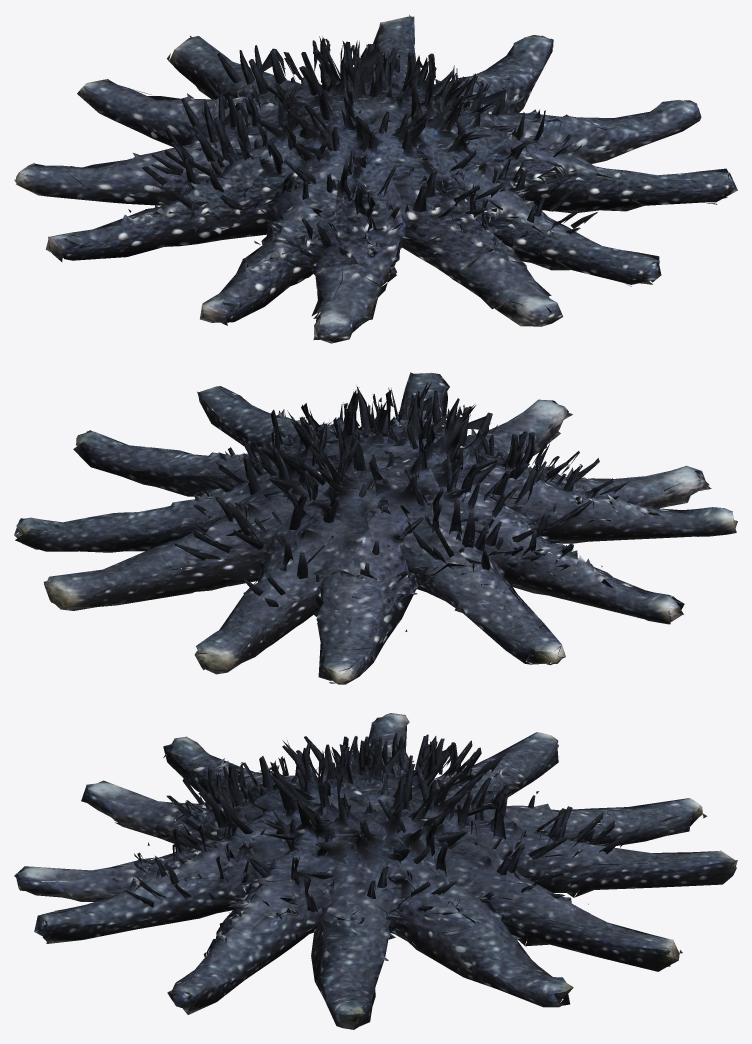
The model's file is TO_014.Starfishthorn.glb.
3 renders of one model, top to bottom at view 1: azimuth 30°, elevation 25°; view 2: azimuth 150°, elevation 25°; view 3: azimuth 270°, elevation 25°, orthographic.
Visible parts, largest first — view 1: Object_4, Object_8, Object_6.001, Object_16, Object_10, Object_22, Object_12, Object_14, Object_18, Object_20; view 2: Object_4, Object_12, Object_8, Object_6.001, Object_16, Object_22, Object_10, Object_14, Object_20, Object_18; view 3: Object_4, Object_6.001, Object_12, Object_16, Object_14, Object_10, Object_8, Object_20, Object_18, Object_22.
Boxes of the visible parts, <box> form: Object_4: <box>14,14,737,343</box>; Object_8: <box>128,93,347,236</box>; Object_6.001: <box>273,36,502,135</box>; Object_16: <box>278,110,513,265</box>; Object_10: <box>195,38,400,136</box>; Object_22: <box>151,84,305,198</box>; Object_12: <box>253,38,466,111</box>; Object_14: <box>393,65,604,181</box>; Object_18: <box>420,155,597,256</box>; Object_20: <box>254,151,403,270</box>; Object_4: <box>14,372,737,684</box>; Object_12: <box>170,424,377,582</box>; Object_8: <box>384,449,602,599</box>; Object_6.001: <box>270,382,475,485</box>; Object_16: <box>374,390,594,500</box>; Object_22: <box>377,455,544,579</box>; Object_10: <box>215,471,437,631</box>; Object_14: <box>192,395,386,492</box>; Object_20: <box>472,425,630,522</box>; Object_18: <box>346,387,497,432</box>; Object_4: <box>14,713,737,1029</box>; Object_6.001: <box>260,736,485,845</box>; Object_12: <box>357,764,590,926</box>; Object_16: <box>152,741,371,866</box>; Object_14: <box>229,806,457,956</box>; Object_10: <box>419,779,640,857</box>; Object_8: <box>282,735,508,788</box>; Object_20: <box>166,756,317,812</box>; Object_18: <box>111,813,265,907</box>; Object_22: <box>328,732,505,786</box>.
Size of the model in its own units: 0.4909 by 0.1063 by 0.4898.
1 material, 1 textured.
